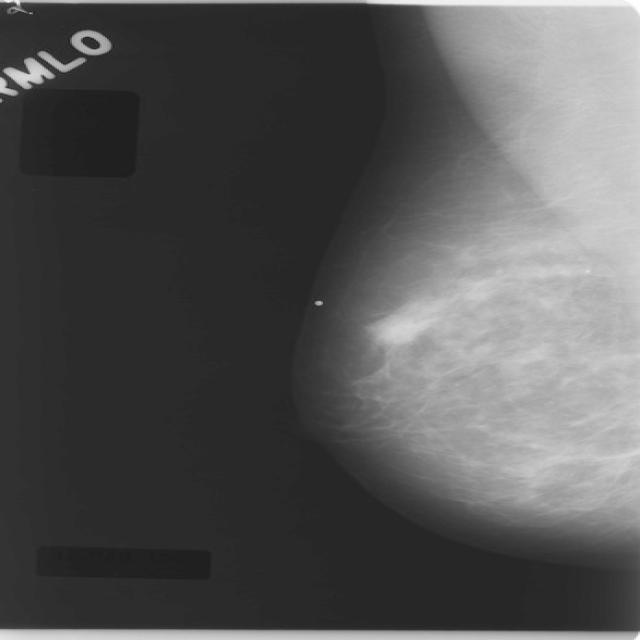tumour: (365, 312, 419, 343)
